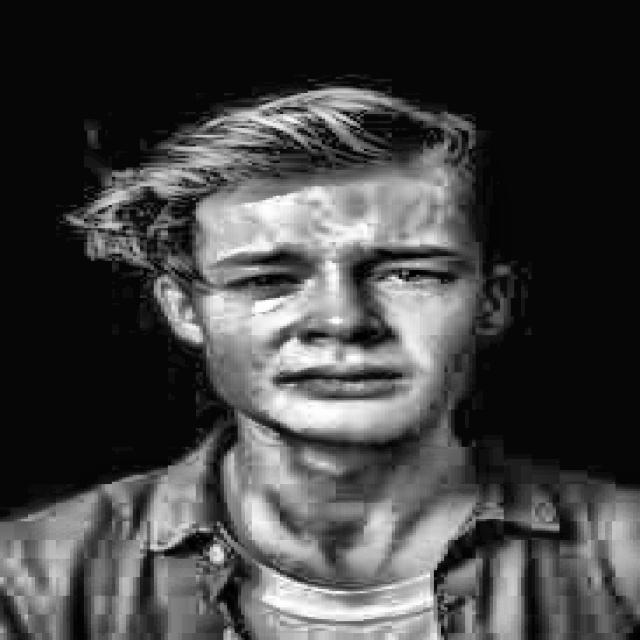sad: (99, 78, 537, 462)
